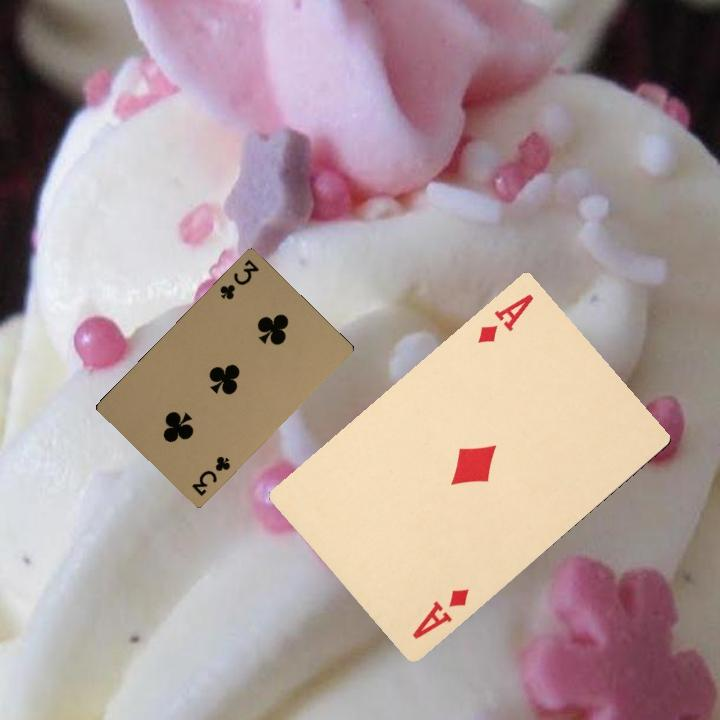3c: (216, 256, 262, 302), (187, 452, 233, 498)
Ad: (473, 289, 536, 347), (408, 585, 471, 642)
